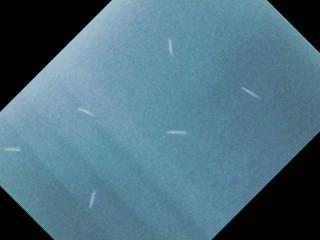scratch: (160, 33, 183, 65), (237, 81, 265, 102), (81, 186, 104, 210), (162, 125, 193, 139), (74, 103, 98, 120), (0, 142, 25, 156)
